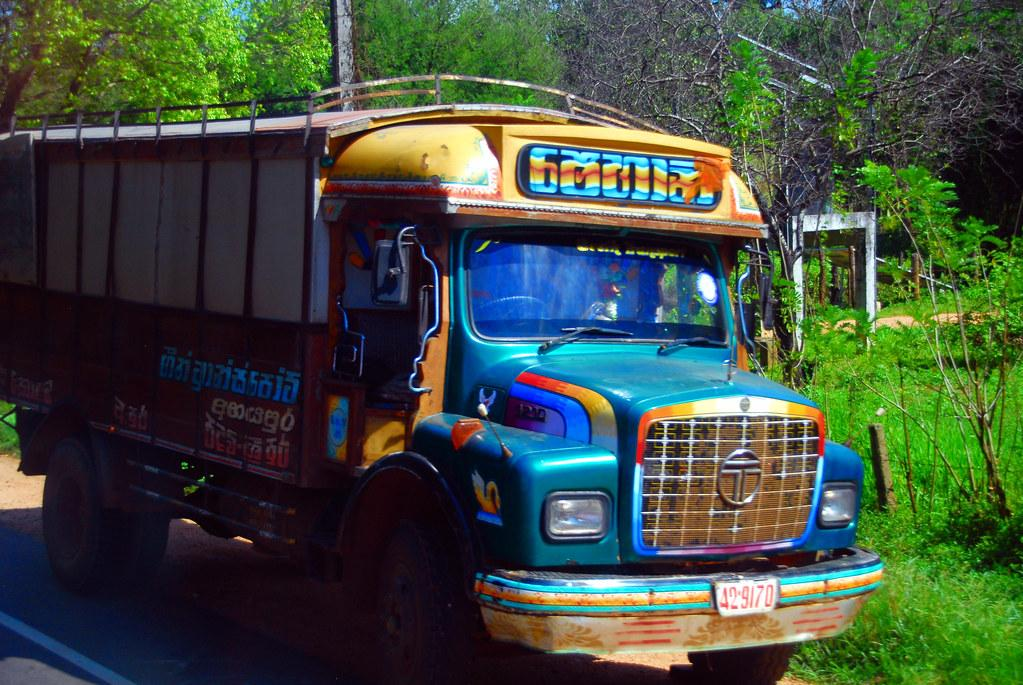truck: (1, 74, 882, 685)
